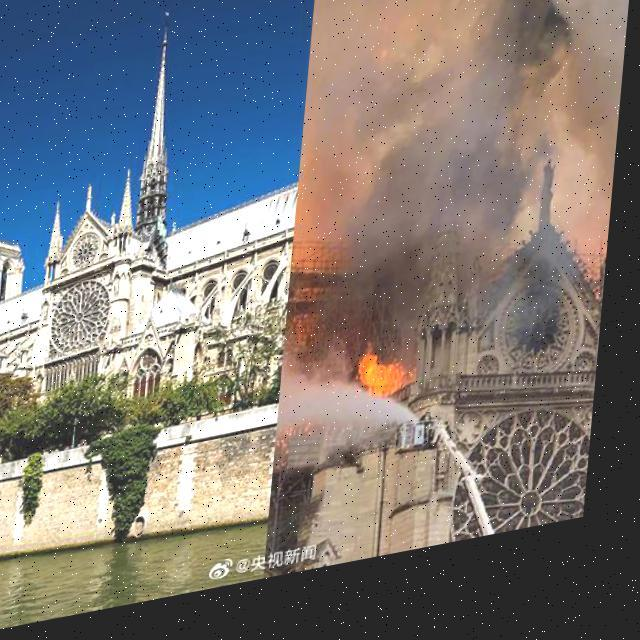Fire: (358, 352, 428, 424)
